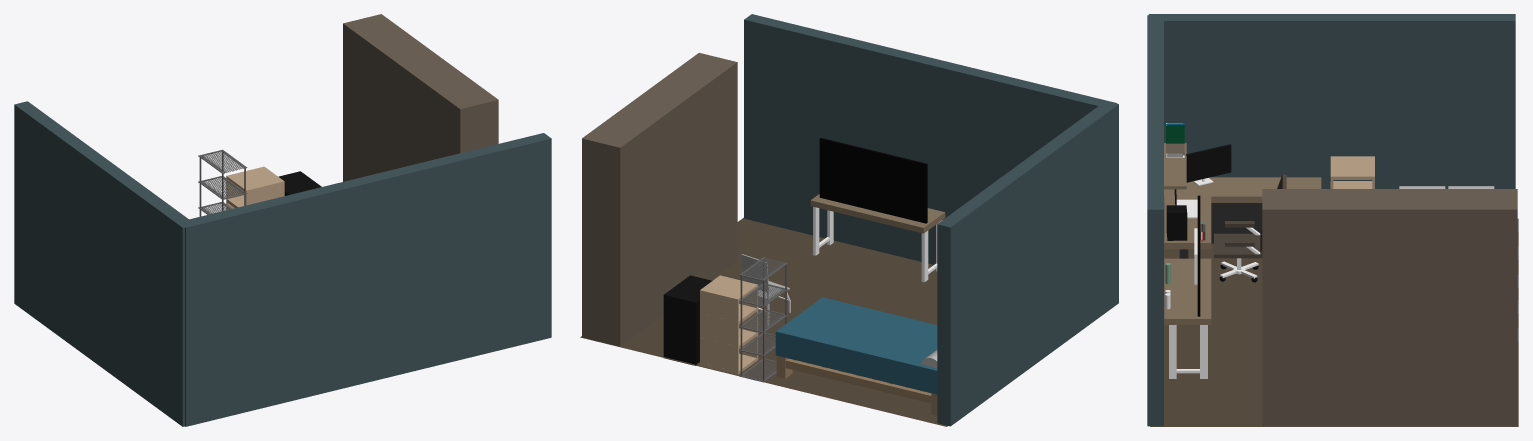
File: habi.glb
3 views of the same model, side by side, from view 1: azimuth 30°, elevation 25°; view 2: azimuth 150°, elevation 25°; view 3: azimuth 270°, elevation 25° (orthographic). The views are drawn at different scales.
Parts seen in each view (by area): view 1: pCube2, pCube1, pCube3, polySurface79, pCube26, pCube104; view 2: pCube2, pCube1, pCube3, pPlane1, pCube4, pCube11, pCube26, polySurface79, pCube104, pCube5, pCube118, polySurface127; view 3: pCube3, pCube1, pPlane1, pCube2, pCube5, pCube7, pCube6, pCube25, pCube9, pCube130, polySurface110, pCube131 (+5 smaller).
Boxes of the visible parts, bbox=[...] form: pCube2: bbox=[178, 133, 551, 426]; pCube1: bbox=[14, 101, 195, 426]; pCube3: bbox=[343, 14, 498, 181]; polySurface79: bbox=[198, 149, 247, 216]; pCube26: bbox=[226, 166, 284, 209]; pCube104: bbox=[278, 171, 321, 195]; pCube2: bbox=[744, 14, 1117, 264]; pCube1: bbox=[937, 101, 1118, 426]; pCube3: bbox=[582, 53, 737, 346]; pPlane1: bbox=[580, 217, 947, 426]; pCube4: bbox=[775, 297, 937, 394]; pCube11: bbox=[819, 138, 927, 223]; pCube26: bbox=[700, 275, 758, 374]; polySurface79: bbox=[739, 257, 788, 382]; pCube104: bbox=[663, 275, 712, 365]; pCube5: bbox=[810, 194, 945, 233]; pCube118: bbox=[785, 359, 931, 403]; polySurface127: bbox=[741, 254, 768, 292]; pCube3: bbox=[1262, 189, 1517, 426]; pCube1: bbox=[1148, 14, 1515, 237]; pPlane1: bbox=[1150, 232, 1518, 426]; pCube2: bbox=[1147, 15, 1163, 426]; pCube5: bbox=[1164, 258, 1211, 324]; pCube7: bbox=[1164, 177, 1321, 202]; pCube6: bbox=[1164, 177, 1211, 249]; pCube25: bbox=[1330, 156, 1374, 188]; pCube9: bbox=[1211, 203, 1262, 243]; pCube130: bbox=[1186, 144, 1231, 182]; polySurface110: bbox=[1214, 233, 1262, 258]; pCube131: bbox=[1164, 143, 1186, 189].
Bounding box in the file's own units: 0.3036 × 0.1574 × 0.243.
